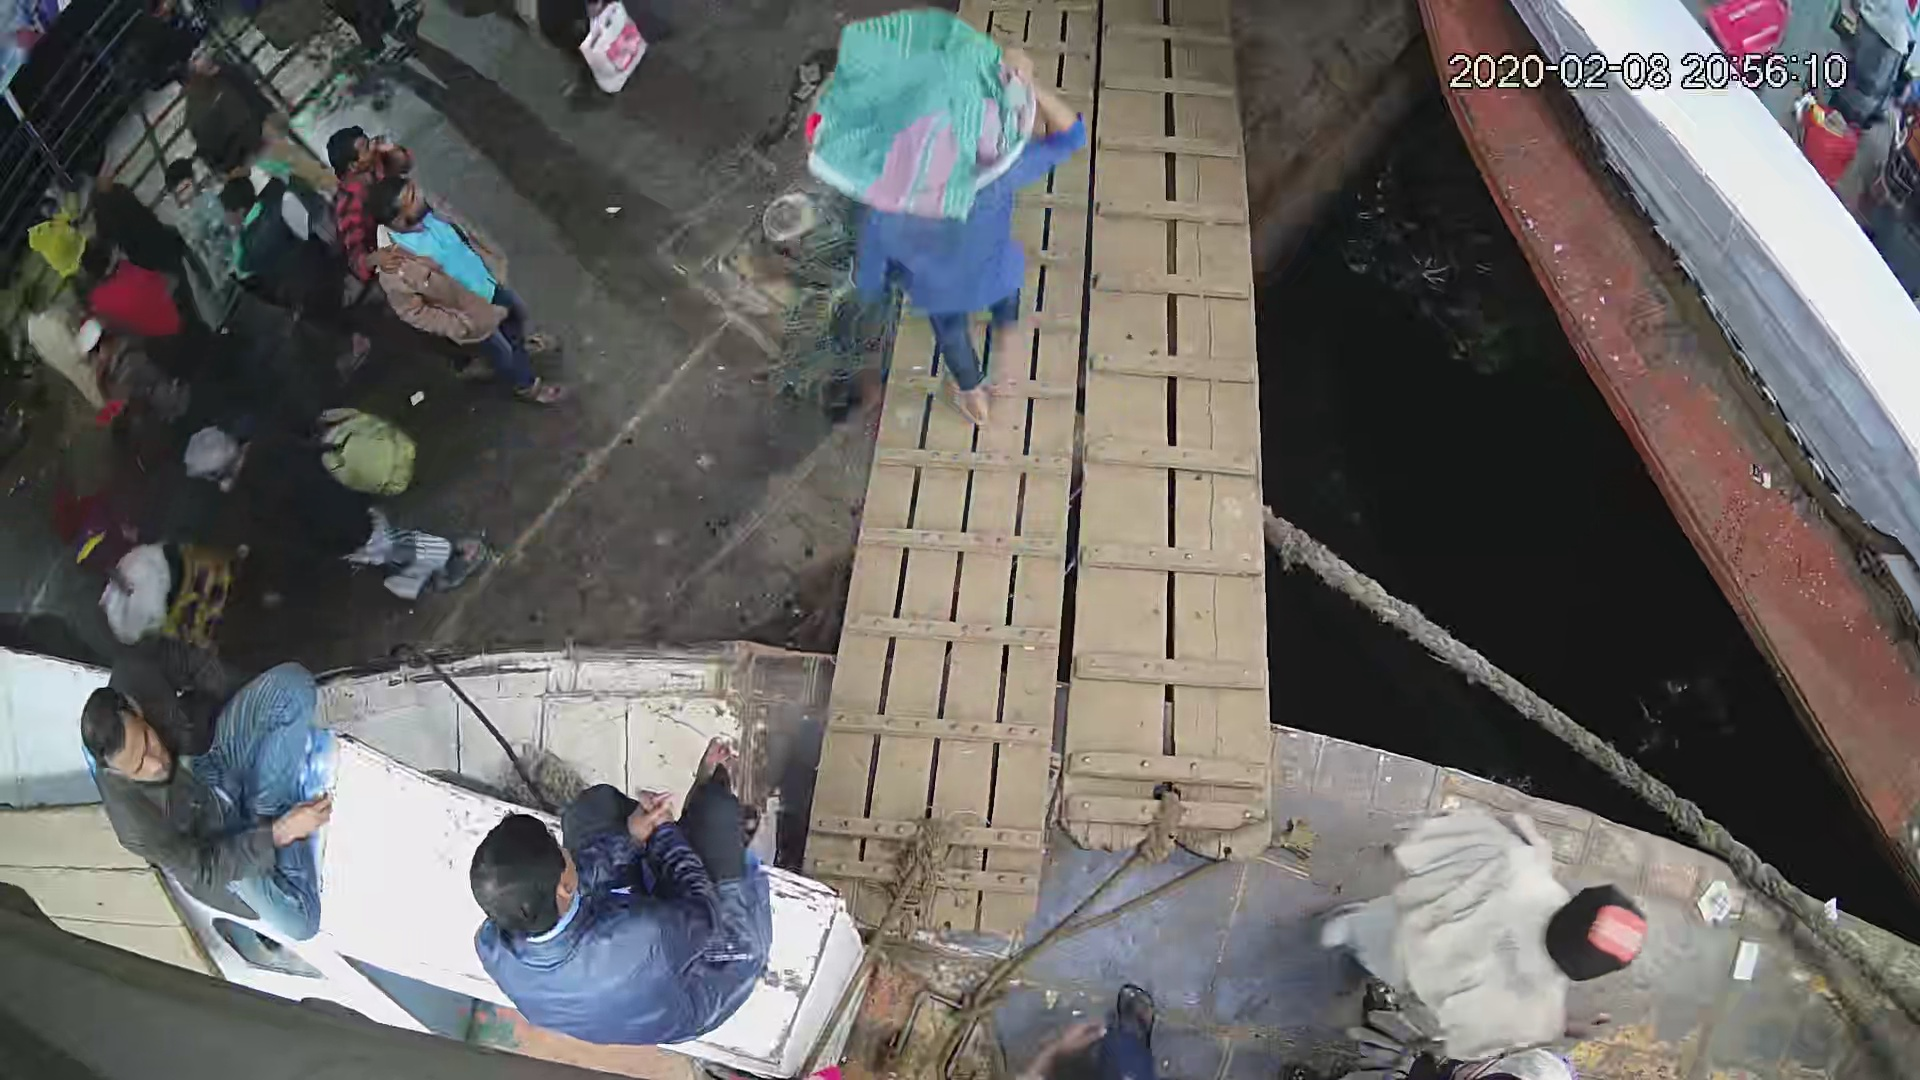person: (792, 3, 1086, 433), (462, 736, 772, 1048), (1331, 801, 1649, 1053), (73, 634, 330, 945), (187, 415, 491, 616), (366, 168, 573, 407)
